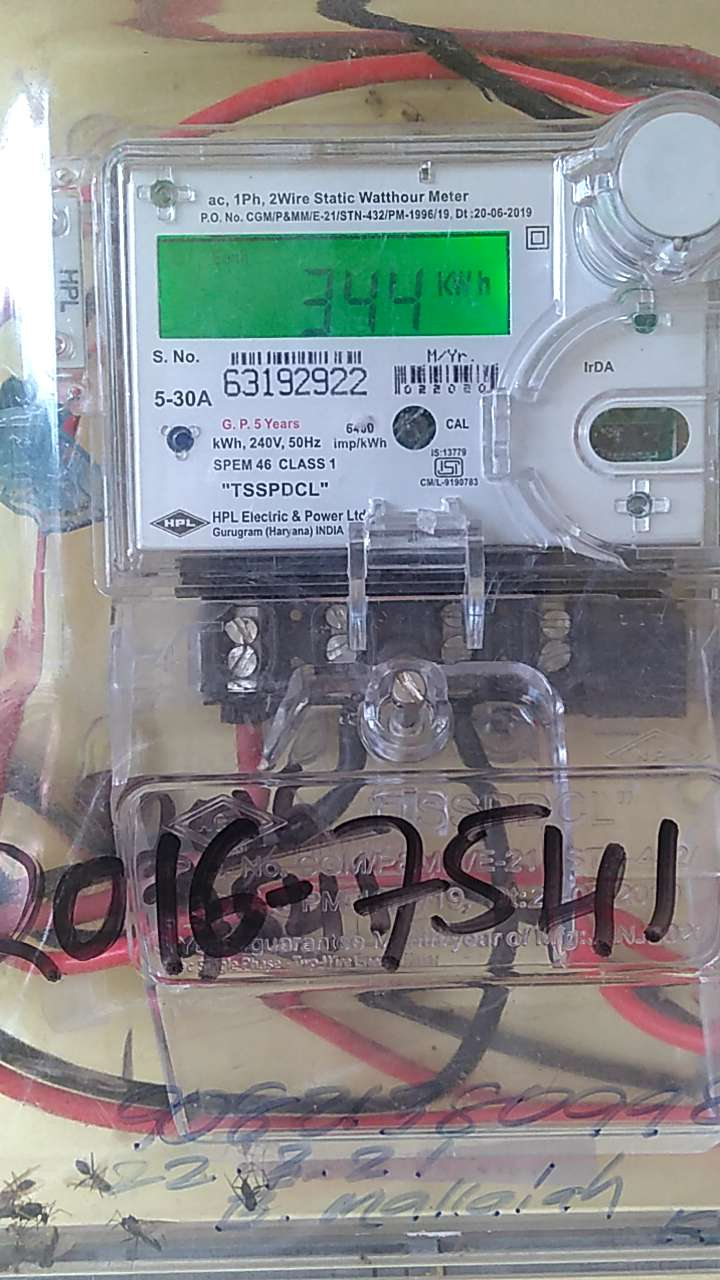meter_serial_number: (218, 364, 375, 400)
